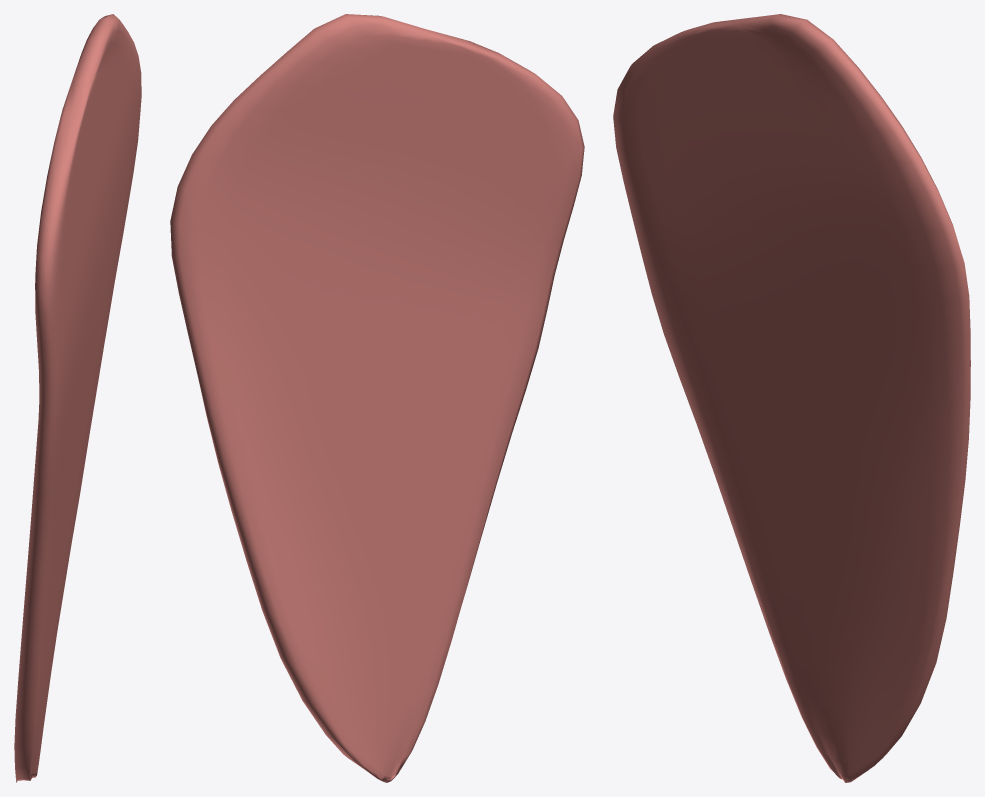
3 views of the same model, side by side, from view 1: azimuth 30°, elevation 25°; view 2: azimuth 150°, elevation 25°; view 3: azimuth 270°, elevation 25° (orthographic). The views are drawn at different scales.
Parts seen in each view (by area): view 1: ZA_72a54dfe39aa0cfd; view 2: ZA_72a54dfe39aa0cfd; view 3: ZA_72a54dfe39aa0cfd.
Boxes of the visible parts, x1=… form: ZA_72a54dfe39aa0cfd: x1=14, y1=14, x2=141, y2=782; ZA_72a54dfe39aa0cfd: x1=170, y1=14, x2=584, y2=782; ZA_72a54dfe39aa0cfd: x1=613, y1=14, x2=970, y2=782.
Size of the model in its own units: 0.0137 by 0.038 by 0.0156.
